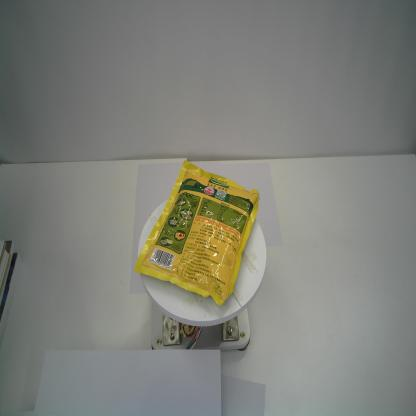Seasoner: (134, 157, 262, 310)
